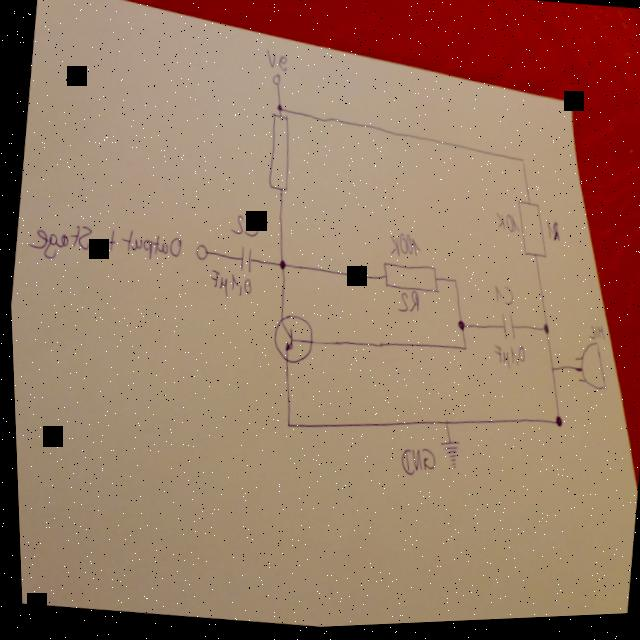capacitor: (495, 315, 519, 348), (232, 245, 256, 277)
ground: (434, 438, 459, 472)
junction: (274, 258, 287, 274), (549, 417, 562, 433), (273, 103, 285, 117), (454, 322, 464, 337), (538, 326, 548, 340), (439, 420, 448, 431), (518, 159, 526, 170), (282, 421, 290, 432), (450, 278, 457, 289), (547, 369, 555, 377), (459, 347, 466, 356)
resistor: (258, 114, 297, 198), (512, 203, 550, 267), (379, 260, 439, 299)
terminal: (192, 240, 211, 266), (270, 75, 282, 89)
text: (12, 211, 195, 276), (205, 268, 253, 305), (395, 447, 435, 482), (384, 231, 424, 265), (489, 344, 526, 375), (227, 213, 261, 240), (393, 290, 421, 320), (491, 213, 520, 239), (263, 49, 289, 74), (491, 285, 513, 309), (542, 223, 562, 248), (583, 328, 605, 345)
transistor: (263, 312, 316, 369)
